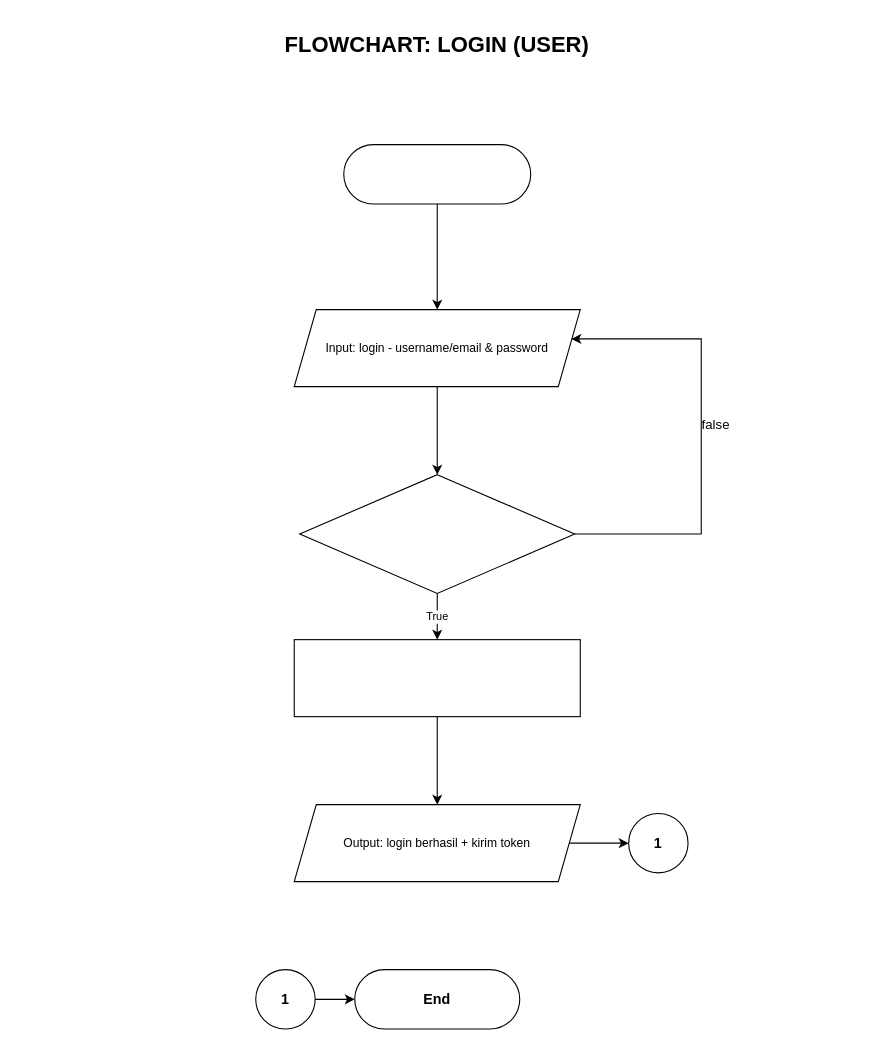
Image size: 873x1048. Some labels were removed from this diagram. Here are the shapes that lost their labels. From the top down, the box of each, then its label:
(343, 144, 531, 204): Start
(299, 474, 575, 593): Kredensial benar?
(293, 639, 580, 717): Generate JWT + refreshToken (POST /api/auth/login)
